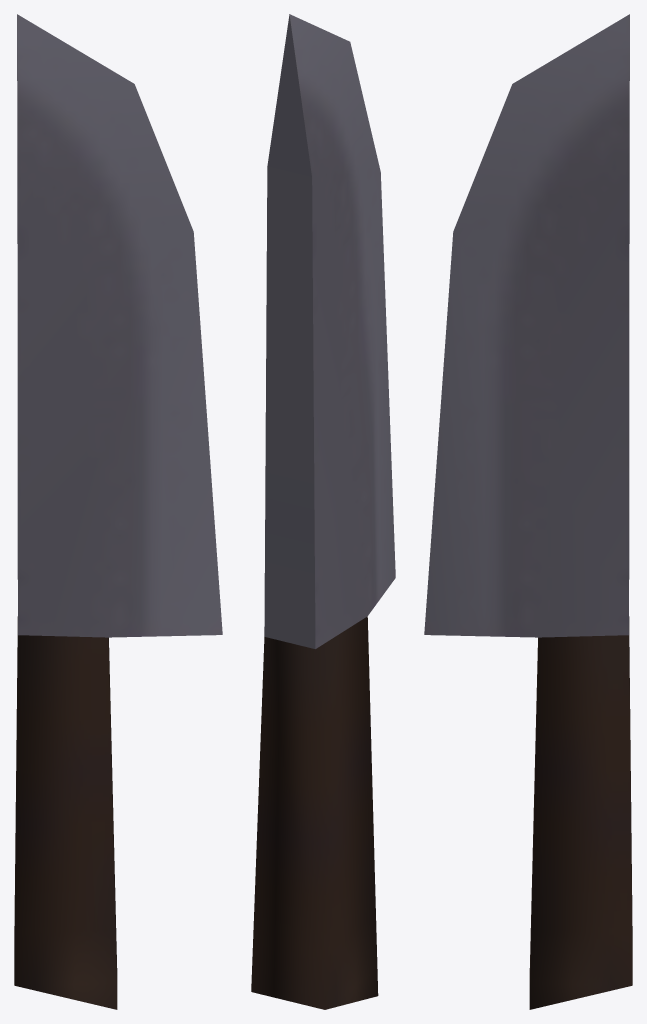
File: w_knife.FBX
3 views of the same model, side by side, from view 1: azimuth 90°, elevation 25°; view 2: azimuth 150°, elevation 25°; view 3: azimuth 270°, elevation 25° (orthographic). The views are drawn at different scales.
Parts seen in each view (by area): view 1: w_knife; view 2: w_knife; view 3: w_knife.
Boxes of the visible parts, x1,y1,x2,y2 form: w_knife: (14, 14, 222, 1009); w_knife: (251, 14, 395, 1009); w_knife: (424, 14, 632, 1009).
Size of the model in its own units: 2.71 by 35.5 by 6.86.
1 material, 1 textured.
